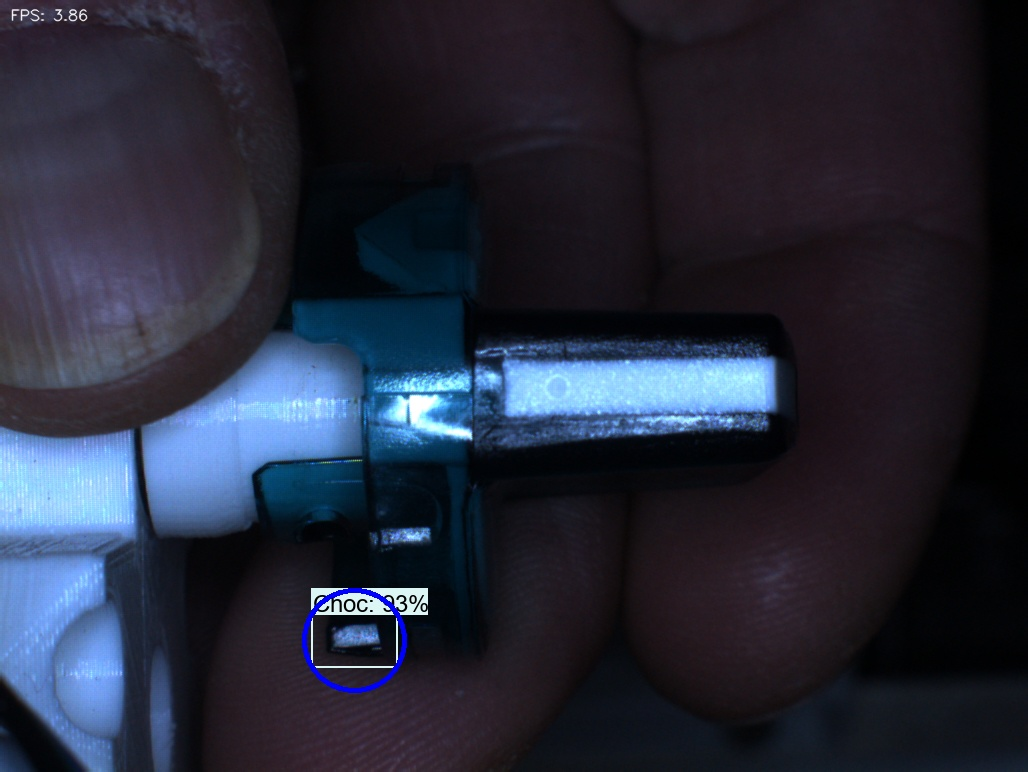DentOk: (330, 198, 393, 281)
